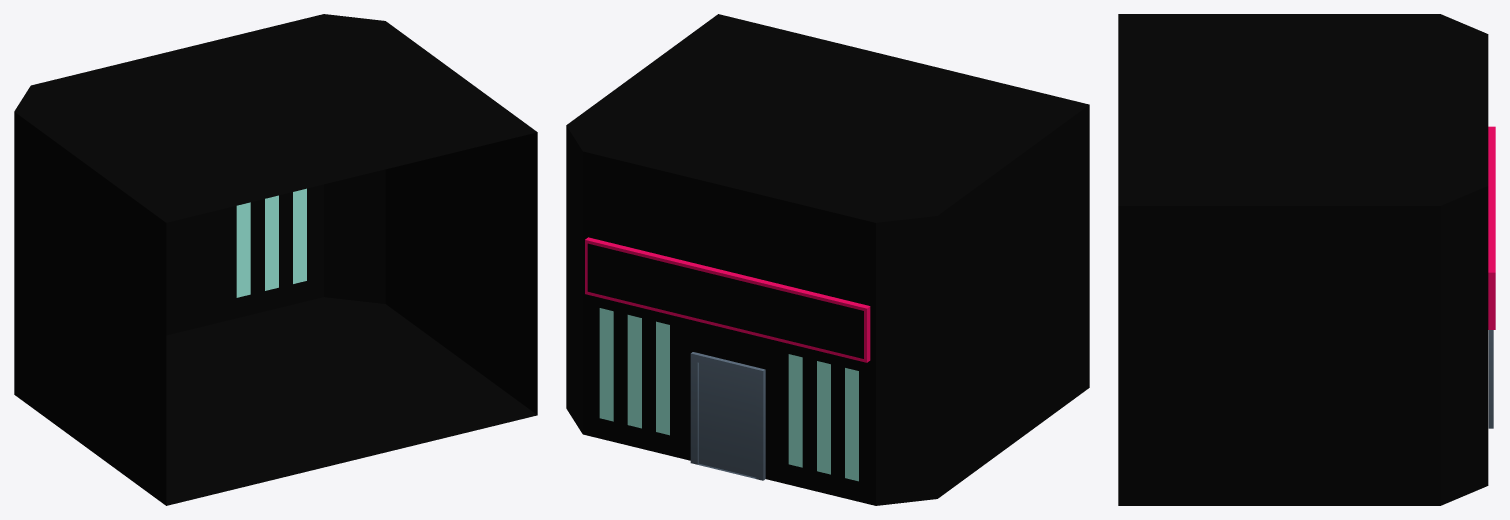
Rendered from Comercio_Edificio_10.FBX.
3 views of the same model, side by side, from view 1: azimuth 30°, elevation 25°; view 2: azimuth 150°, elevation 25°; view 3: azimuth 270°, elevation 25° (orthographic). The views are drawn at different scales.
Visible parts, largest first — view 1: Comercio_Edificio_10; view 2: Comercio_Edificio_10; view 3: Comercio_Edificio_10.
Boxes of the visible parts, x1=… form: Comercio_Edificio_10: x1=14, y1=14, x2=537, y2=505; Comercio_Edificio_10: x1=566, y1=14, x2=1089, y2=505; Comercio_Edificio_10: x1=1118, y1=14, x2=1495, y2=505.
Size of the model in its own units: 949 by 788 by 691.
